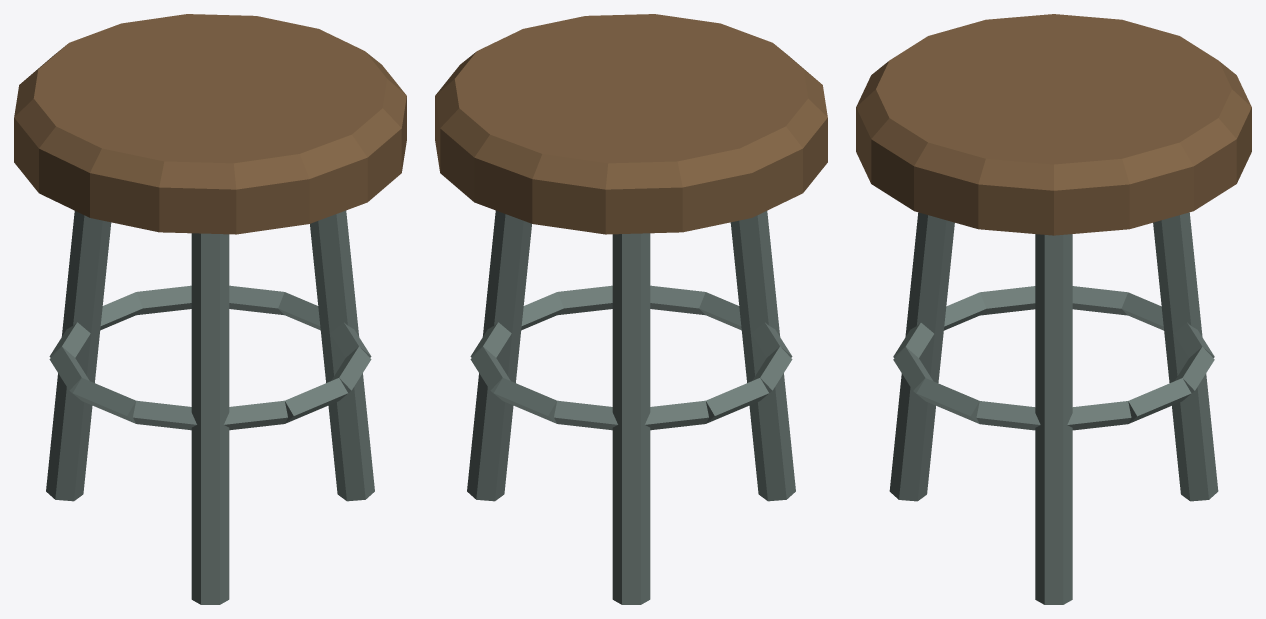
3 renders of one model, left to right at view 1: azimuth 30°, elevation 25°; view 2: azimuth 150°, elevation 25°; view 3: azimuth 270°, elevation 25°, orthographic.
Parts seen in each view (by area): view 1: a148; view 2: a148; view 3: a148.
Part boxes in pixels (bbox=[...]): a148: bbox=[14, 14, 406, 604]; a148: bbox=[435, 14, 827, 604]; a148: bbox=[856, 14, 1251, 604].
Bounding box in the file's own units: 0.4 × 0.4917 × 0.4.
